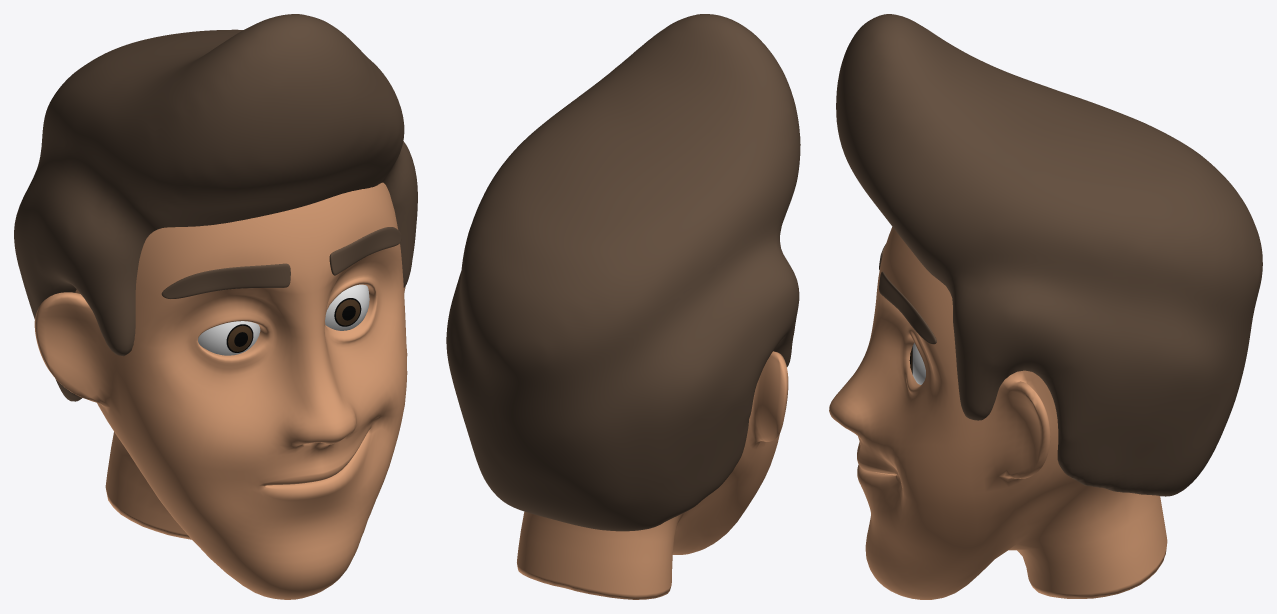
The model's file is Alfred.gltf.
3 views of the same model, side by side, from view 1: azimuth 30°, elevation 25°; view 2: azimuth 150°, elevation 25°; view 3: azimuth 270°, elevation 25° (orthographic). The views are drawn at different scales.
Visible parts, largest first — view 1: Face, Eye.R, Eye.L; view 2: Face; view 3: Face.
Boxes of the visible parts, x1,y1,x2,y2 form: Face: (14, 14, 417, 599); Eye.R: (198, 321, 260, 355); Eye.L: (325, 284, 369, 330); Face: (446, 14, 800, 599); Face: (829, 14, 1262, 599).
Size of the model in its own units: 0.9899 by 1.5 by 1.04.
